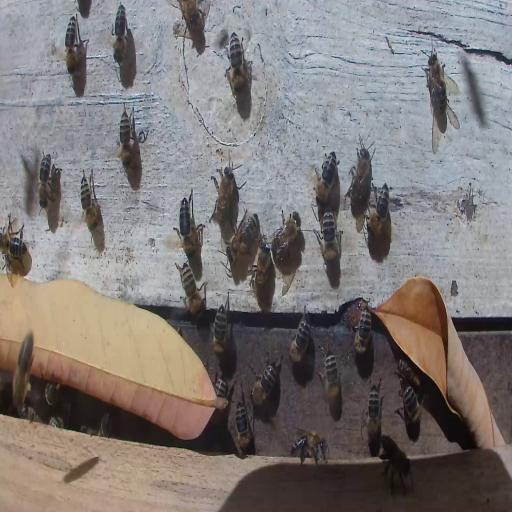nonpollenbee: (379, 434, 415, 498), (424, 51, 451, 118), (249, 354, 279, 409), (314, 208, 342, 263), (177, 262, 205, 316), (180, 0, 210, 49), (211, 164, 237, 220), (352, 135, 375, 198), (79, 169, 101, 234), (288, 305, 312, 363), (271, 210, 300, 258), (0, 222, 29, 270), (313, 150, 338, 205), (290, 429, 328, 465), (227, 34, 249, 96), (231, 210, 259, 258), (321, 350, 342, 411), (253, 242, 273, 303), (352, 295, 371, 359), (212, 301, 230, 368), (36, 147, 54, 214), (233, 400, 253, 458), (177, 196, 195, 256), (370, 181, 390, 234), (400, 384, 422, 432), (118, 106, 133, 171), (112, 2, 127, 65), (366, 384, 382, 442), (64, 13, 78, 76), (210, 369, 230, 411), (397, 358, 421, 392), (80, 416, 109, 434), (44, 380, 60, 406), (20, 406, 42, 422)
pollenbee: (12, 328, 36, 415)
